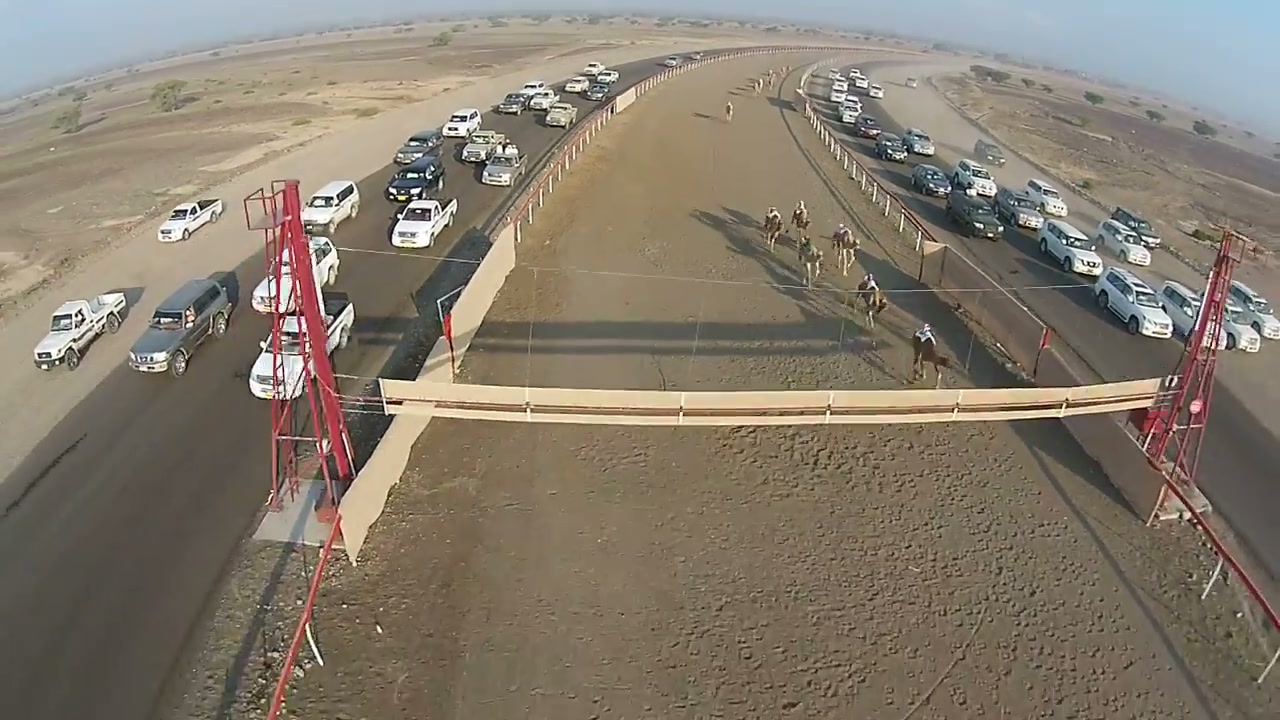animal_footprint: (831, 353, 1159, 704)
